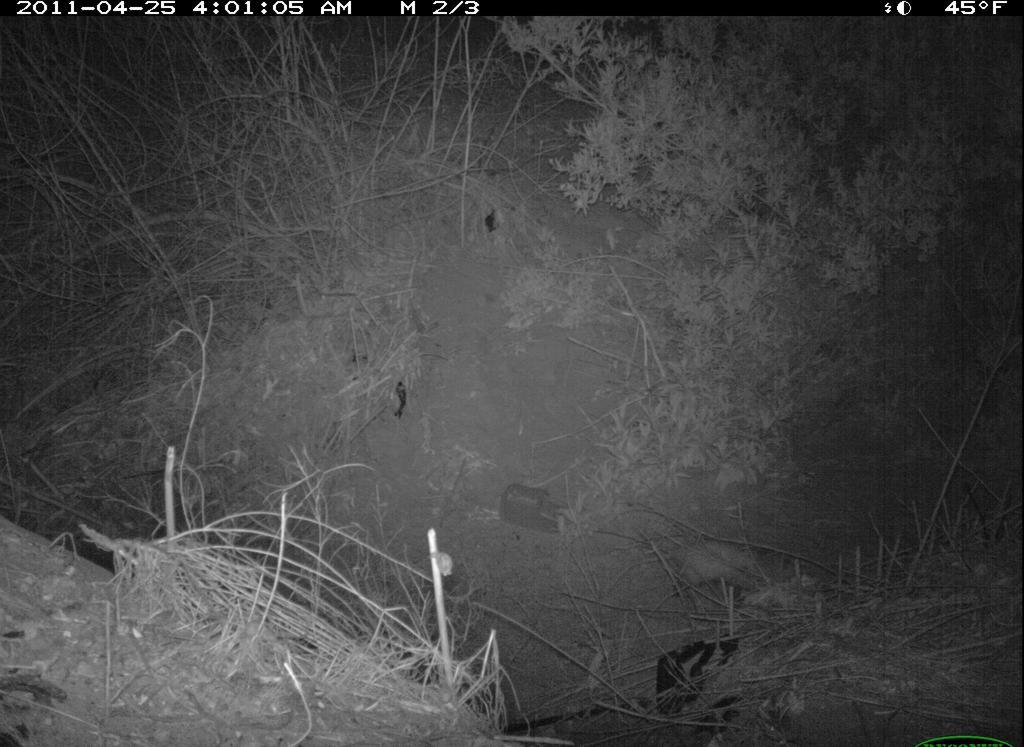opossum: (643, 538, 775, 597)
